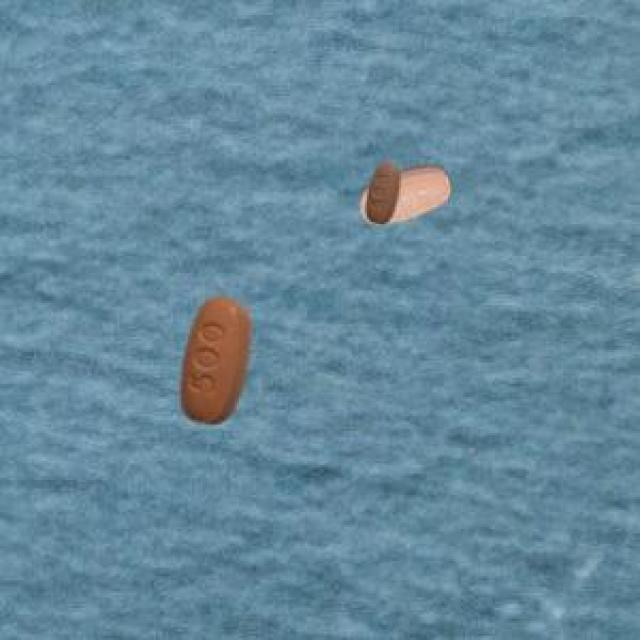Biogesic: (163, 286, 258, 434), (348, 137, 463, 240)
